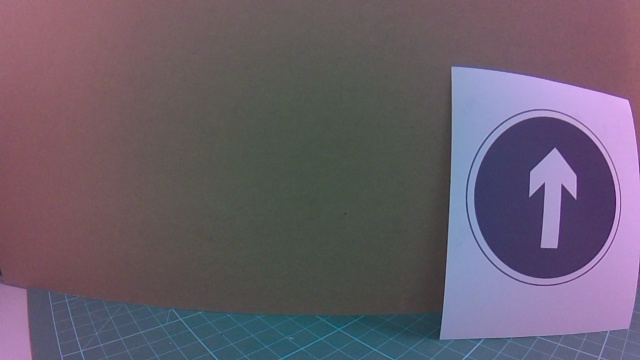forward: (458, 97, 640, 303)
